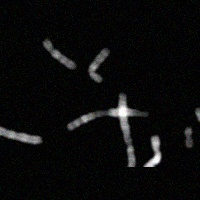chromosome: (68, 107, 148, 130), (119, 92, 136, 166), (42, 38, 75, 69), (0, 120, 41, 144), (88, 48, 107, 83), (143, 135, 160, 167), (184, 127, 194, 148), (195, 107, 200, 145)
